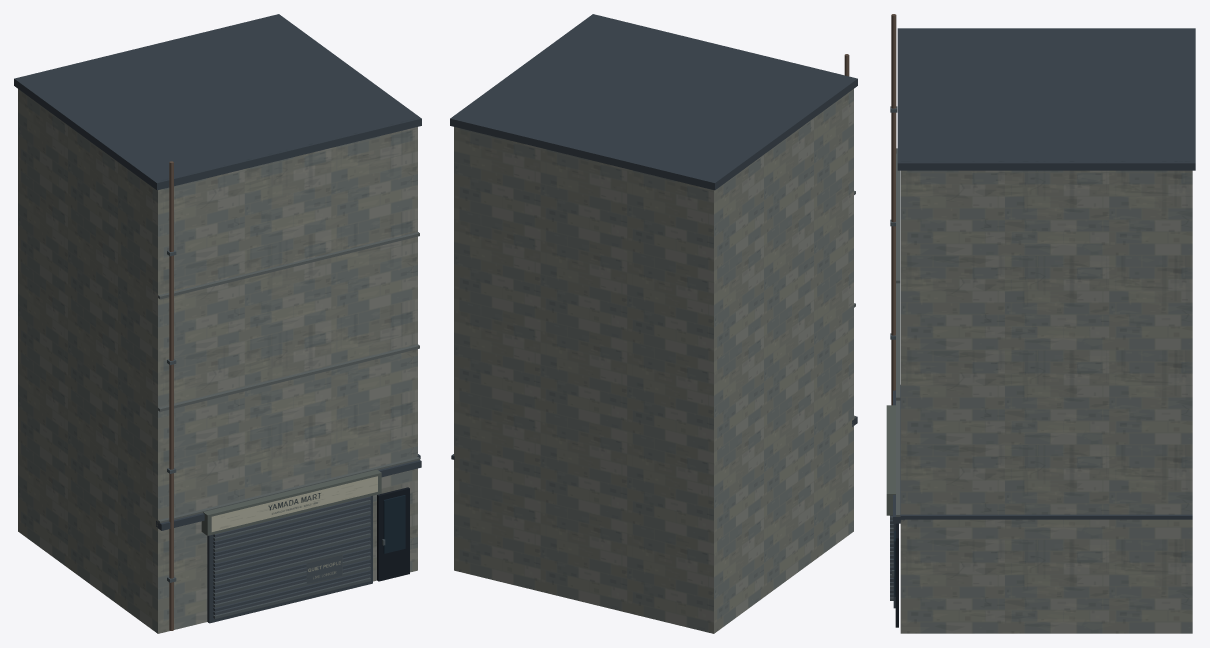
The model's file is la-mart-shell.glb.
3 views of the same model, side by side, from view 1: azimuth 30°, elevation 25°; view 2: azimuth 150°, elevation 25°; view 3: azimuth 270°, elevation 25° (orthographic). The views are drawn at different scales.
Parts seen in each view (by area): view 1: la-mart-shell; view 2: la-mart-shell; view 3: la-mart-shell.
Boxes of the visible parts, <box> form: la-mart-shell: <box>14,14,421,633</box>; la-mart-shell: <box>450,14,857,633</box>; la-mart-shell: <box>886,14,1195,633</box>.
Size of the model in its own units: 7.64 by 13 by 7.41.
5 materials, 4 textured.
